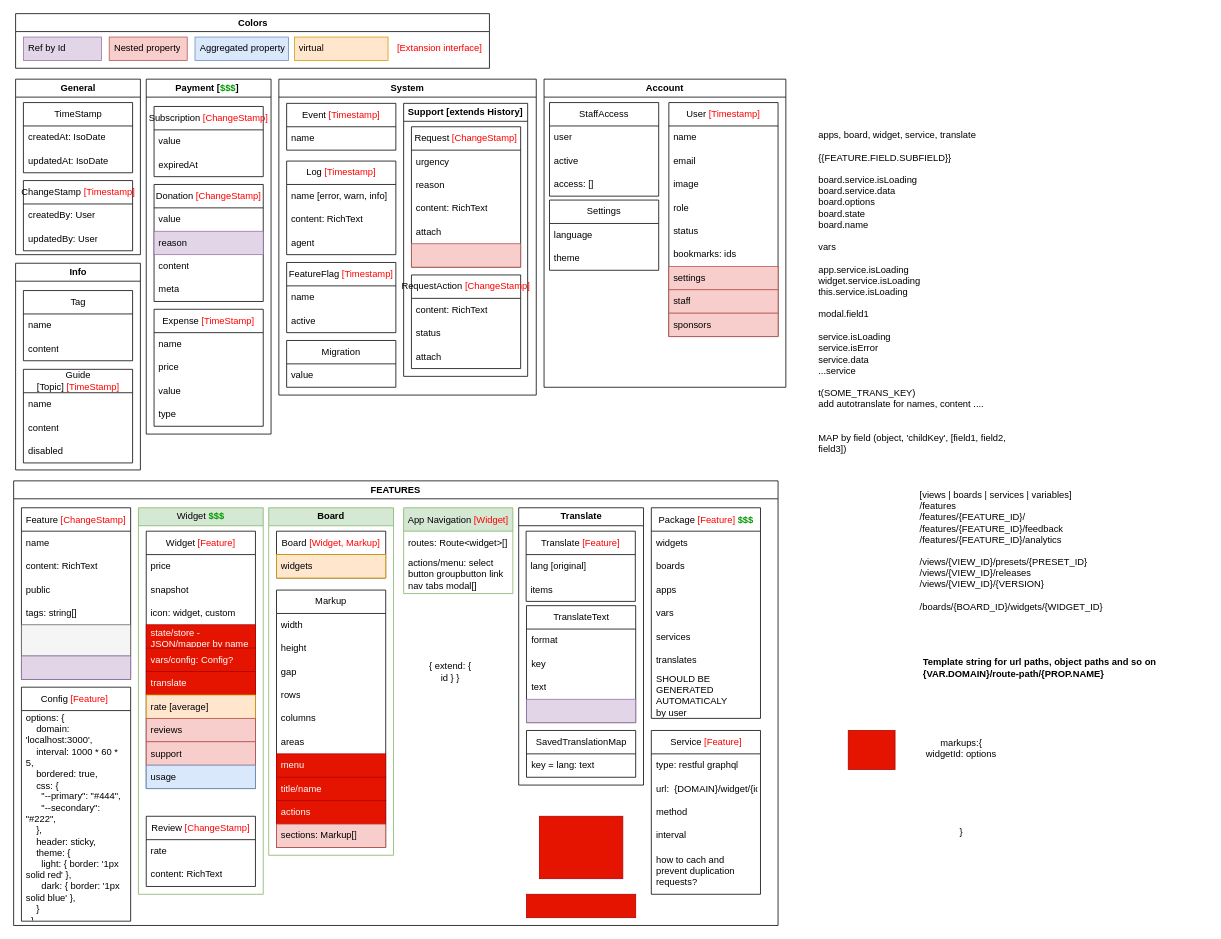
This 1221x939 diagram has some shape labels left out. Here are the shapes that lost their labels. From the top down, the centre of each, then its label:
At [466,255]: "history".
At [76,640]: "options: Json(map of translates,widget props)".
At [76,667]: "parent".
At [581,710]: "transate: ids or map".
At [871,749]: "allow to write js in options".
At [581,847]: "onStateChange(partial) onCreate onUpdate onDelete onRead".
At [581,905]: "Default config returns default widget options".
